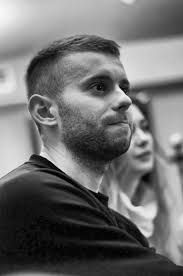no-mask: (25, 32, 141, 167)
